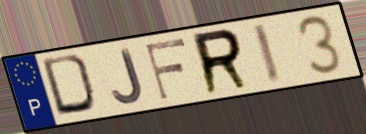3: (295, 13, 344, 77)
D: (39, 52, 101, 118)
F: (143, 36, 189, 103)
I: (249, 21, 285, 87)
J: (110, 47, 146, 106)
R: (190, 26, 253, 98)
